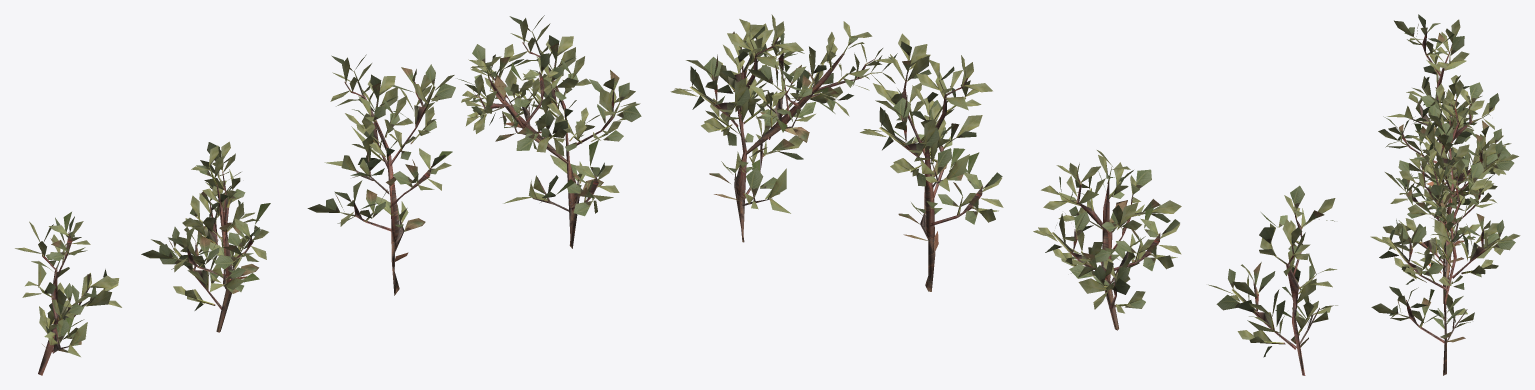
File: shrub_04.glb
The picture shows the model from 3 angles, left to right: view 1: azimuth 30°, elevation 25°; view 2: azimuth 150°, elevation 25°; view 3: azimuth 270°, elevation 25°; orthographic projection. The views are drawn at different scales.
Parts seen in each view (by area): view 1: lod0; view 2: lod0; view 3: lod0.
Boxes of the visible parts, x1,y1,x2,y2 form: lod0: (15, 15, 641, 375); lod0: (670, 14, 1337, 375); lod0: (1370, 14, 1520, 375).
Size of what is drawn, in the model's own units: 0.5832 by 0.2225 by 0.1457.
1 material, 1 textured.
